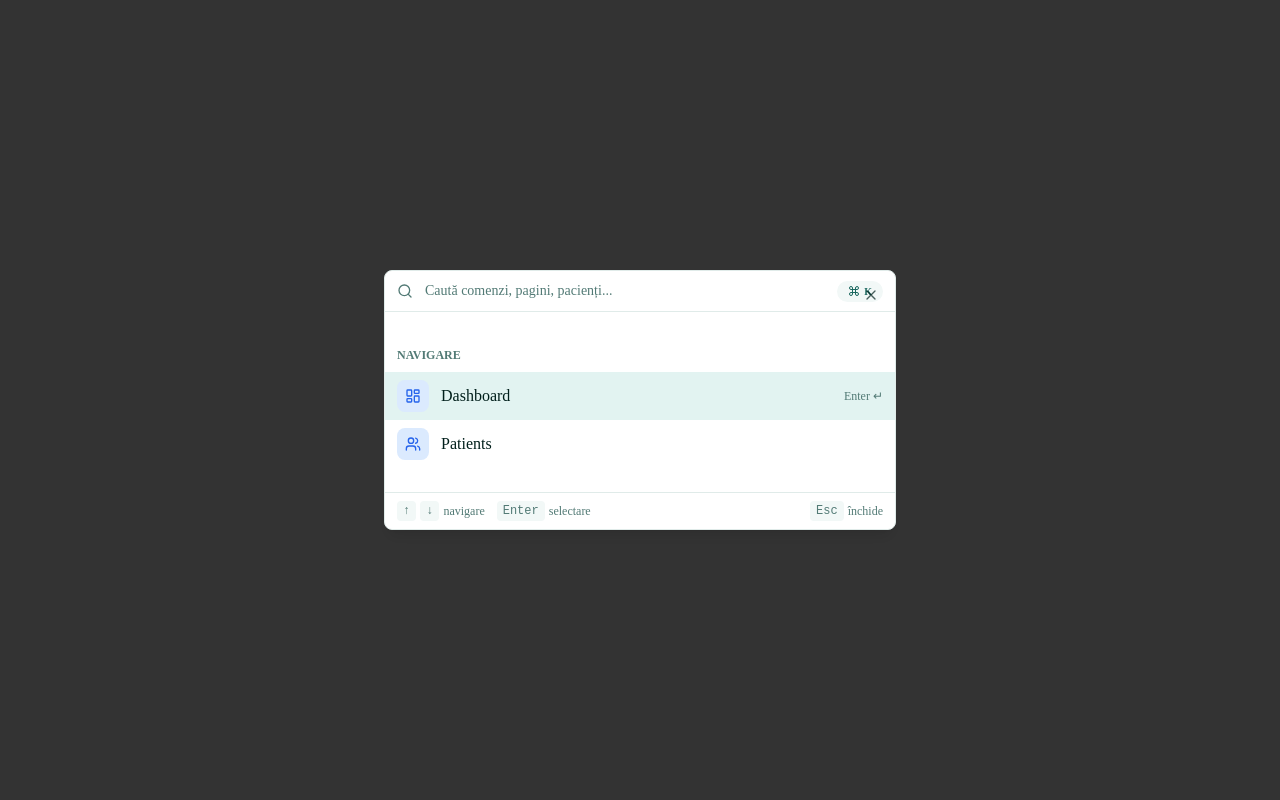
Scenario: CommandPalette › should filter commands by query
The width and height of the screenshot is (1280, 800).
In the field with placeholder "Caută comenzi, pagini, pacienți...": (625, 291) [413,271,837,311], type "dashboard"
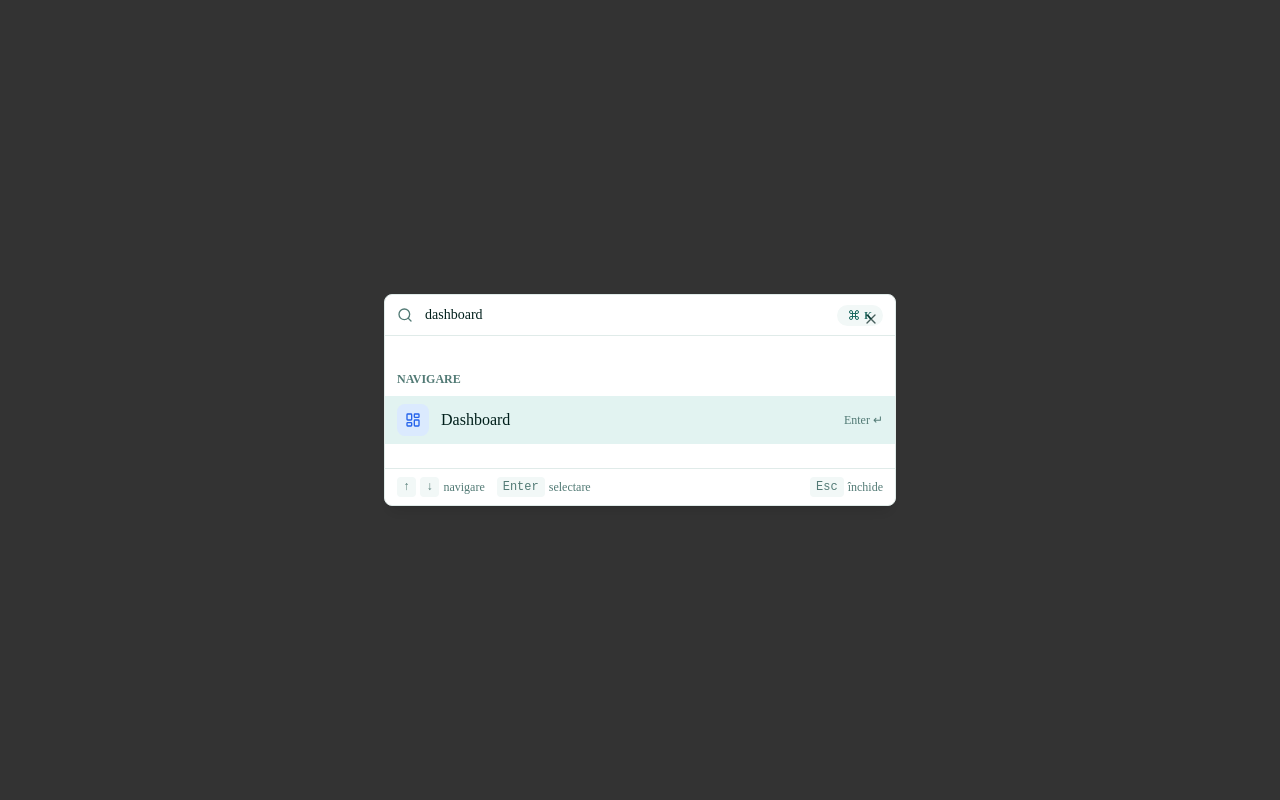
Expected: the text "Dashboard" is shown, [441,411,510,428]
Expected: the button "Patients" is gone
